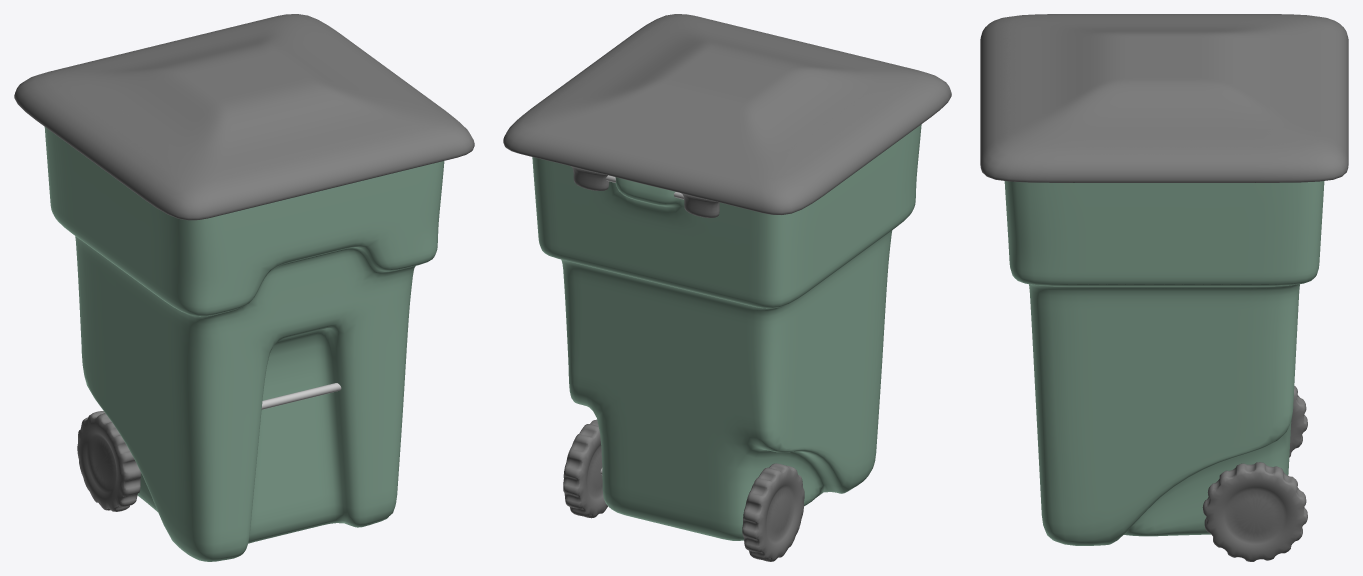
File: bin2.glb
3 renders of one model, left to right at view 1: azimuth 30°, elevation 25°; view 2: azimuth 150°, elevation 25°; view 3: azimuth 270°, elevation 25°, orthographic. The views are drawn at different scales.
Parts seen in each view (by area): view 1: residential_trash_residential_trash_PLASTIC_green; view 2: residential_trash_residential_trash_PLASTIC_green; view 3: residential_trash_residential_trash_PLASTIC_green.
Boxes of the visible parts, <box> form: residential_trash_residential_trash_PLASTIC_green: <box>14,14,474,561</box>; residential_trash_residential_trash_PLASTIC_green: <box>503,14,951,561</box>; residential_trash_residential_trash_PLASTIC_green: <box>980,14,1348,561</box>.
Bounding box in the file's own units: 0.7343 × 1 × 0.7343.
